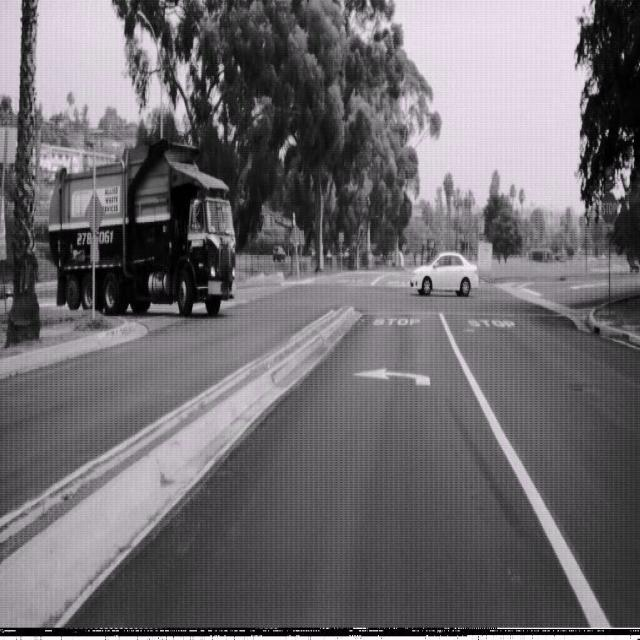stop_sign: (600, 188, 618, 226)
